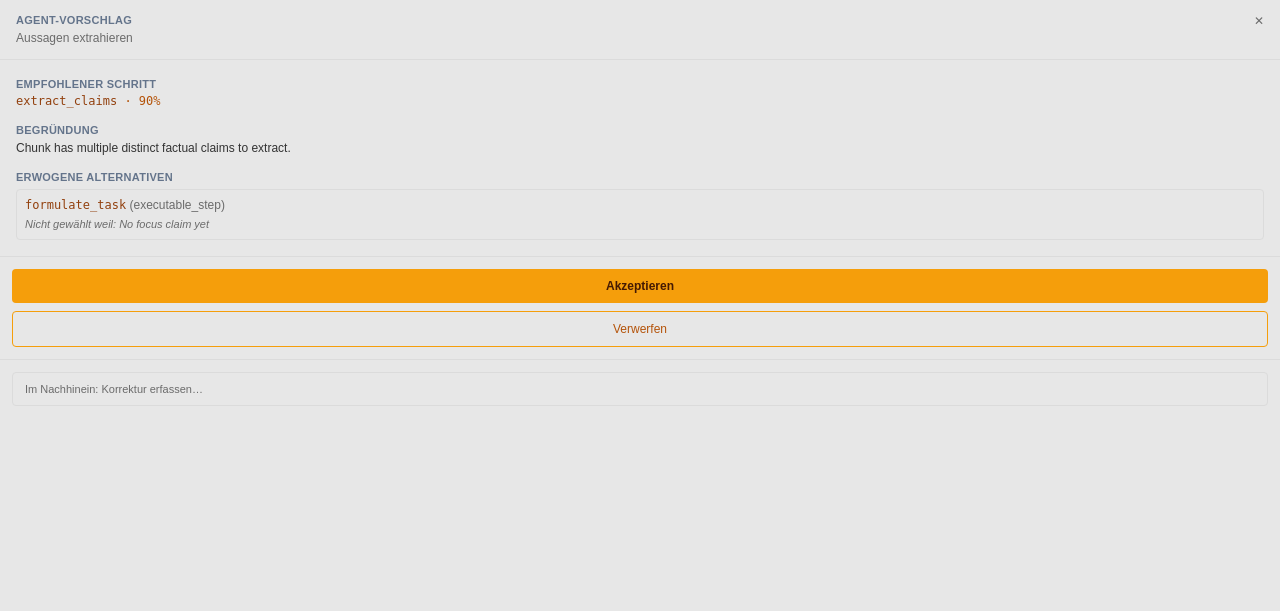
PlanProposalPanel — post-hoc drawer › clicking the drawer toggle expands the same correction form (combobox + textarea)
The width and height of the screenshot is (1280, 611).
What coordinates should you click on to do the following:
click the button with test id "plan-posthoc-toggle"
I would click on:
 (114, 388)
Its box is [12,372,1268,406].
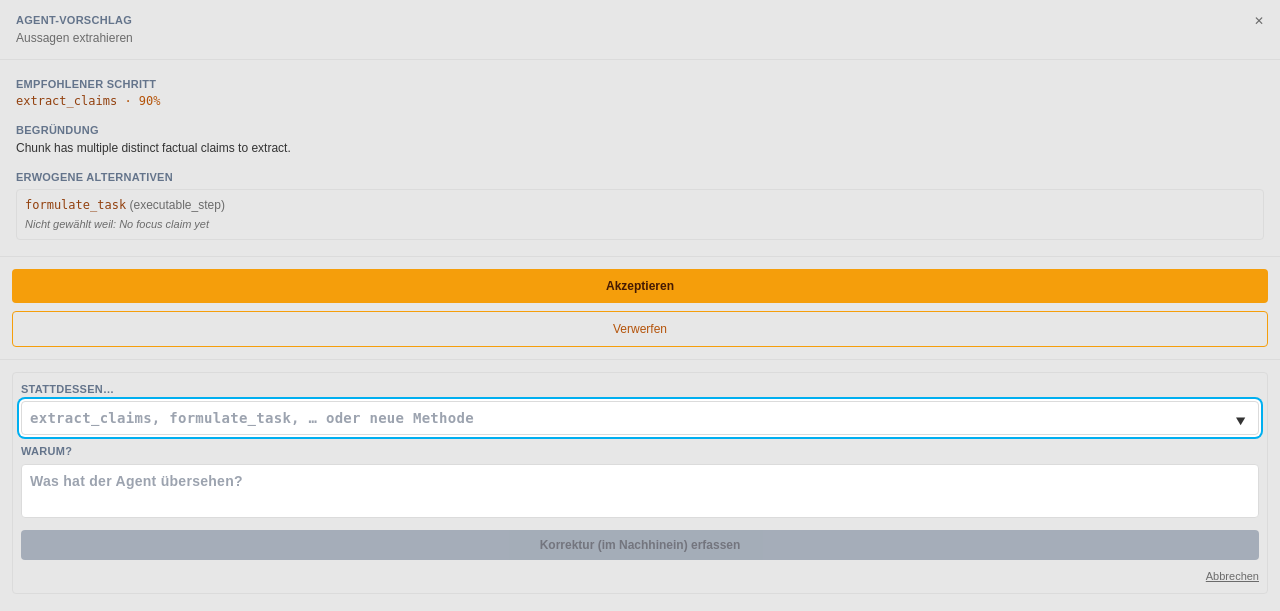
Expected: the field labelled "Stattdessen…" is shown, [21,401,1259,435]
Expected: the text box labelled "Warum?" is shown, [21,464,1259,518]
Expected: the button "Korrektur (im Nachhinein) erfassen" is shown, [21,530,1259,560]
